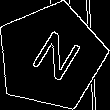N_SW: (20, 25, 82, 89)
